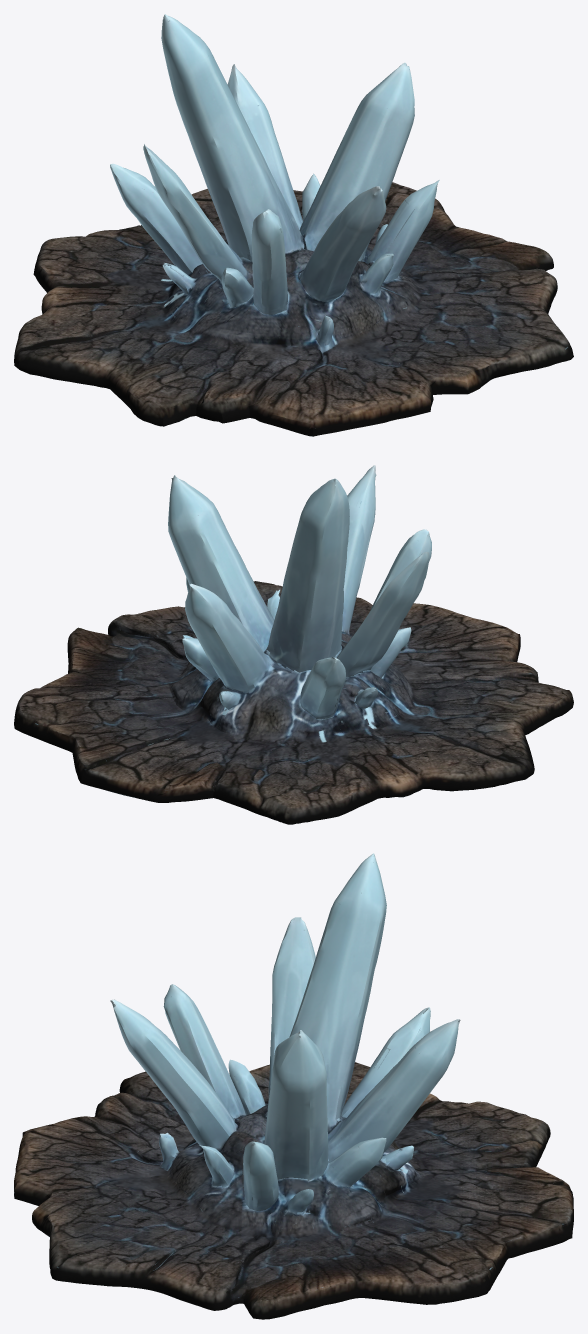
File: stormwood_glass_scar_crystals.glb
3 renders of one model, top to bottom at view 1: azimuth 30°, elevation 25°; view 2: azimuth 150°, elevation 25°; view 3: azimuth 270°, elevation 25°, orthographic. The views are drawn at different scales.
Parts seen in each view (by area): view 1: Mesh_0; view 2: Mesh_0; view 3: Mesh_0.
Part boxes in pixels (x1,y1,x2,y2): Mesh_0: (14,14,573,436); Mesh_0: (14,465,573,824); Mesh_0: (14,853,573,1319).
Size of the model in its own units: 1.89 by 1.04 by 1.75.
Materials: 1 (1 with a texture image).
